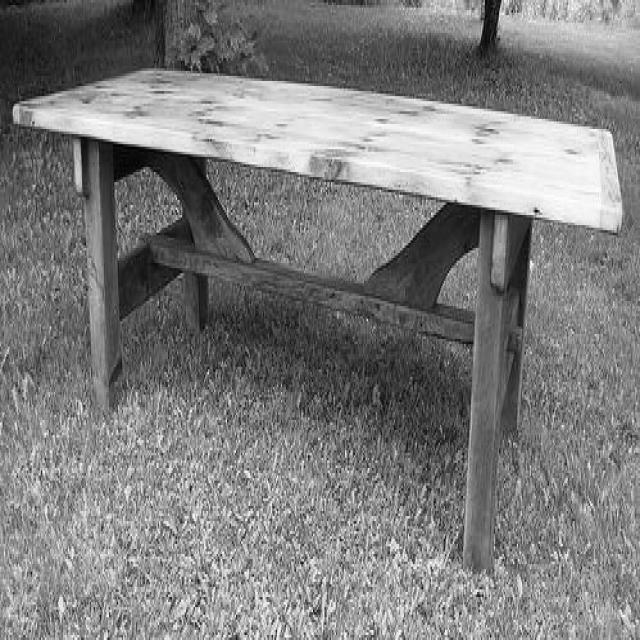table: (14, 66, 626, 584)
